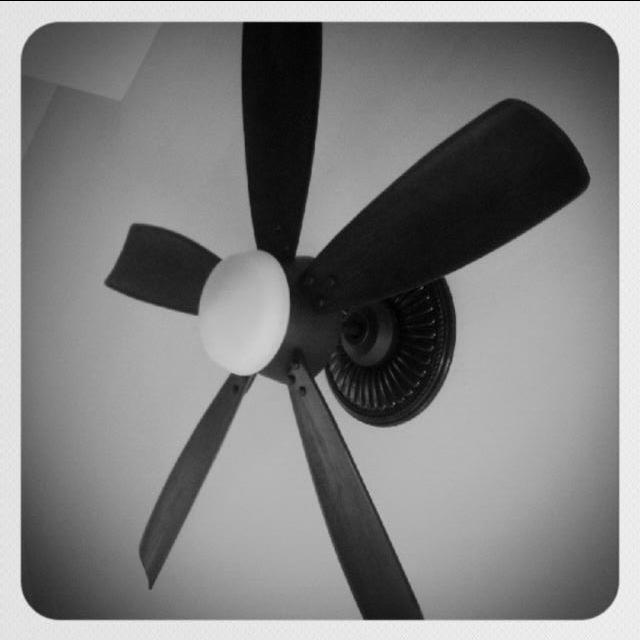fan: (104, 22, 592, 619)
light: (197, 249, 292, 376)
